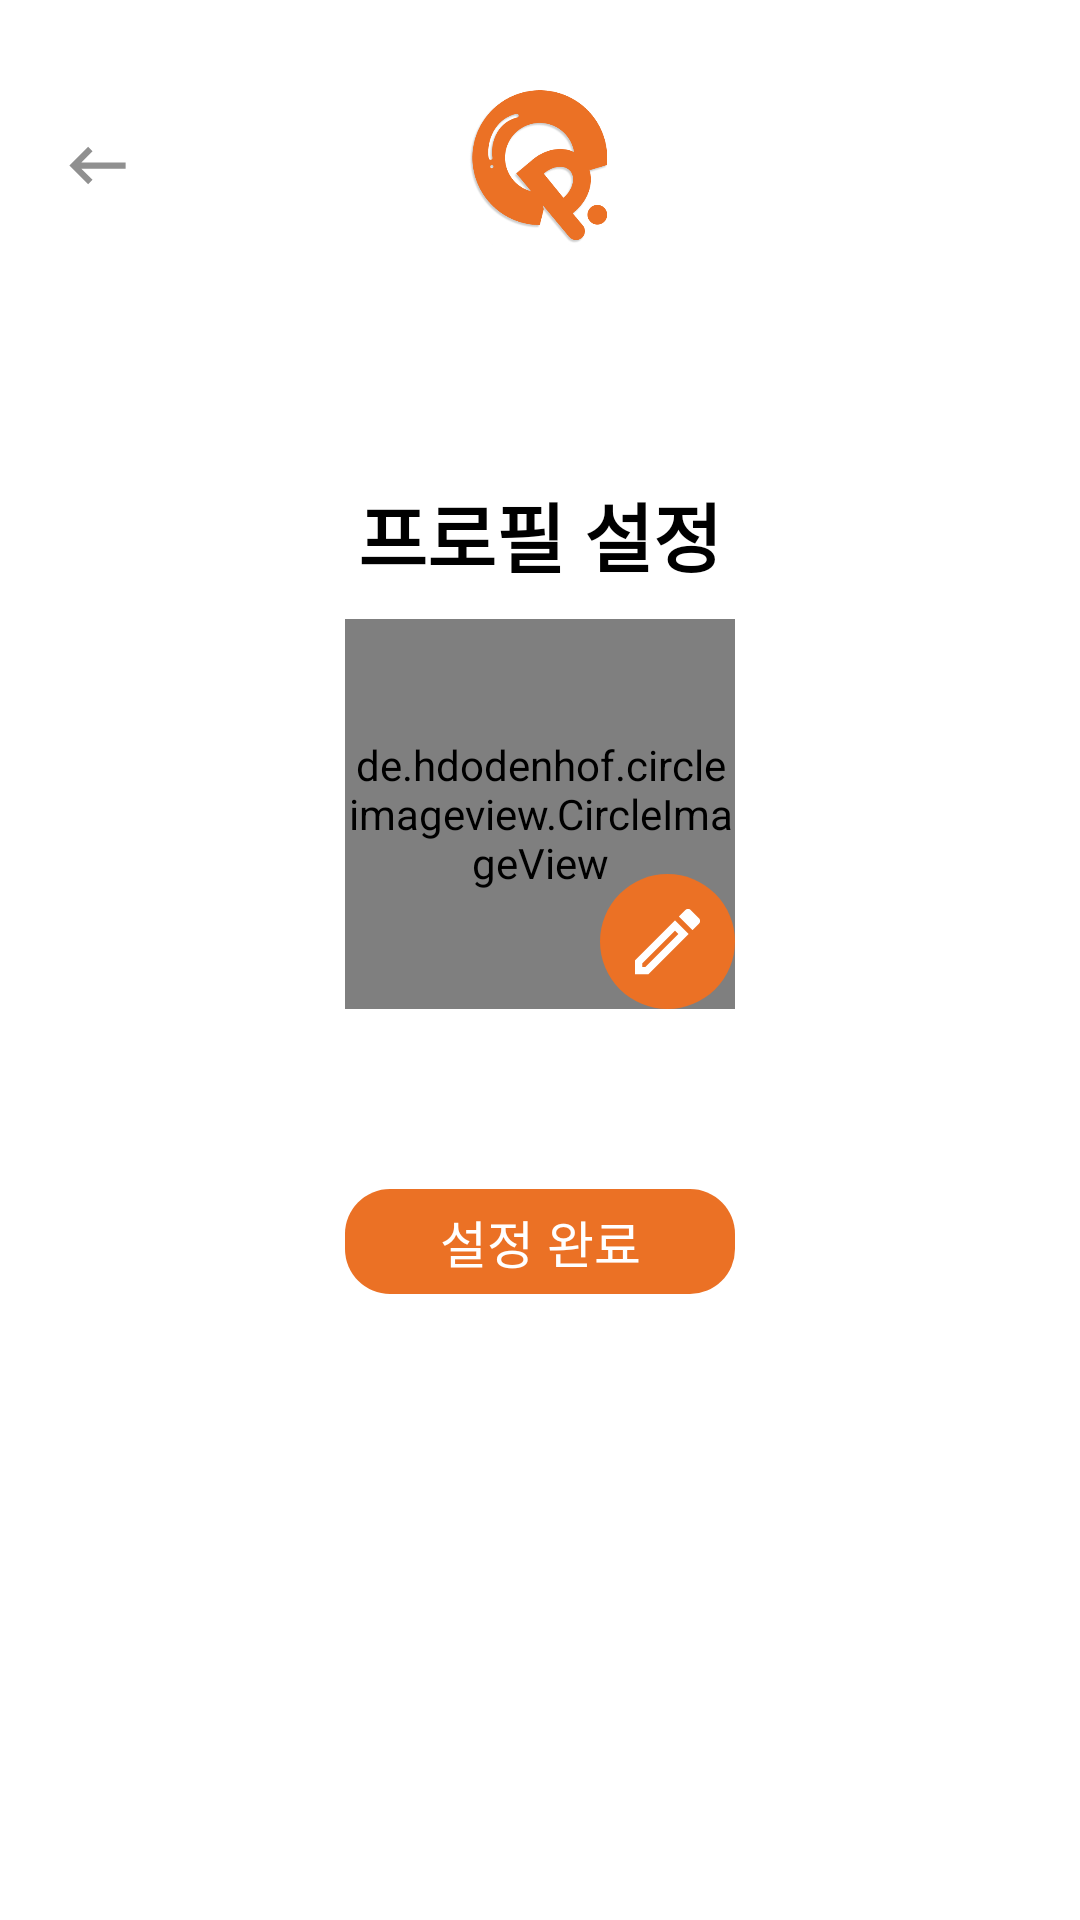

Icons on this 1080px×1920px Android screen, each with the point to tap as [x,y]:
edit: [667,941]
keyboard backspace: [97,165]
